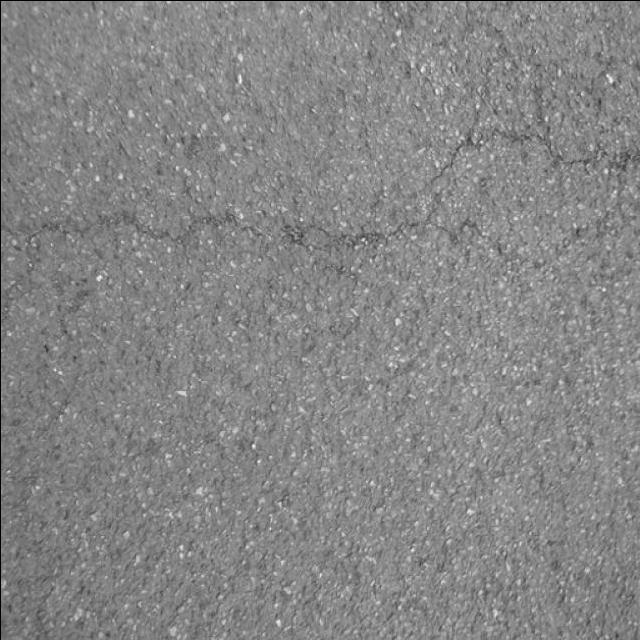SurfaceCrack: (1, 44, 640, 315)
